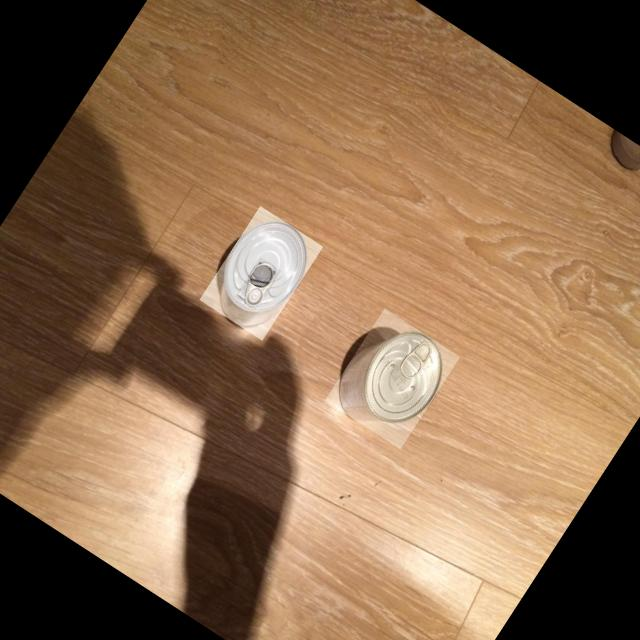Other can: (339, 333, 442, 424), (219, 223, 306, 326)
Pop tab: (244, 263, 275, 307), (400, 343, 431, 380), (251, 266, 271, 287), (402, 357, 420, 378)
